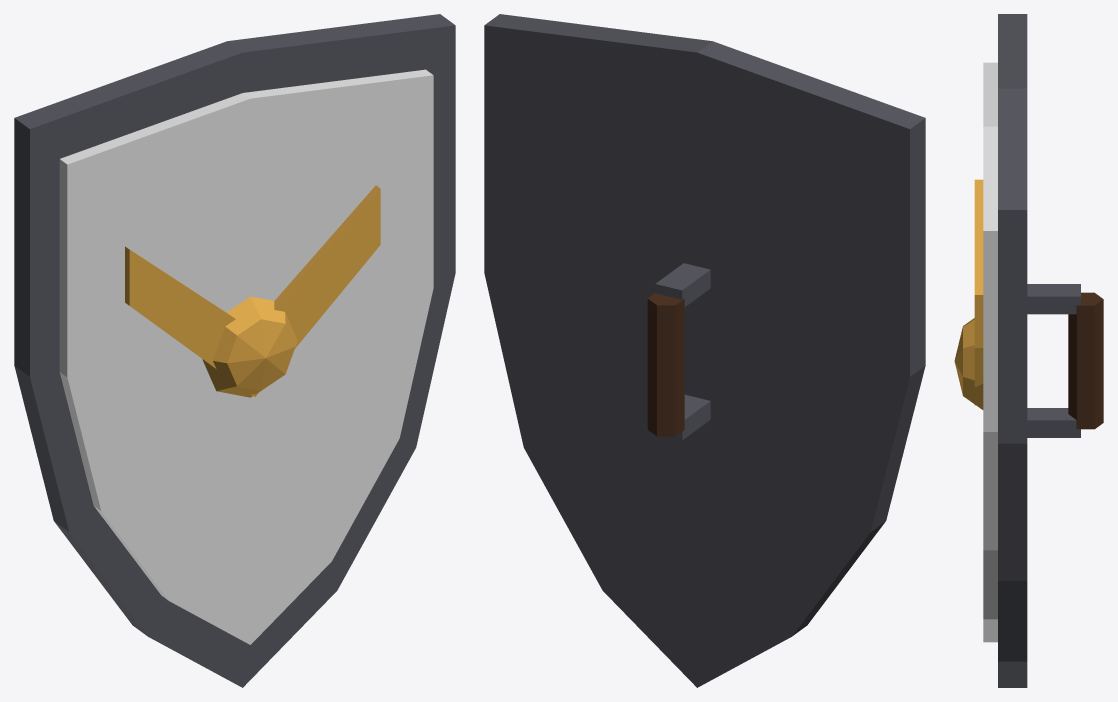
The model's file is offhand_shield.glb.
The picture shows the model from 3 angles, left to right: view 1: azimuth 30°, elevation 25°; view 2: azimuth 150°, elevation 25°; view 3: azimuth 270°, elevation 25°; orthographic projection. The views are drawn at different scales.
Visible parts, largest first — view 1: offhand_shield; view 2: offhand_shield; view 3: offhand_shield.
Part boxes in pixels (x1,y1,x2,y2): offhand_shield: (14,14,455,687); offhand_shield: (484,14,925,687); offhand_shield: (954,14,1103,687).
Size of the model in its own units: 0.4752 by 0.6776 by 0.1527.
